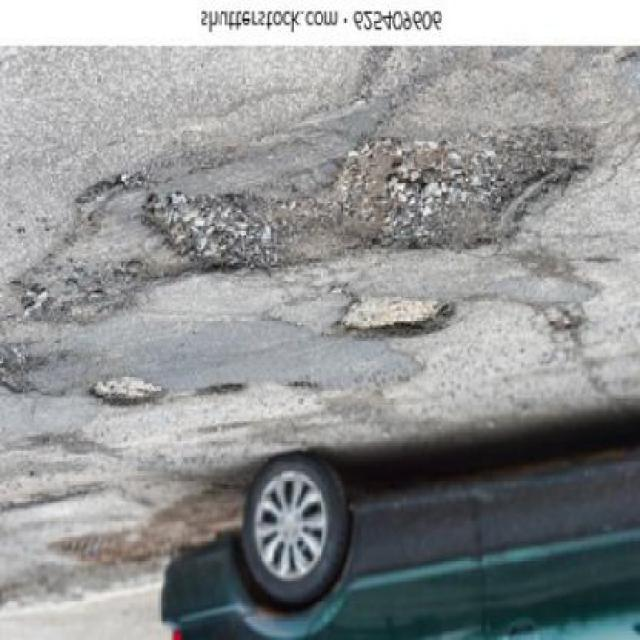pothole: (13, 108, 604, 334), (90, 368, 170, 414)
